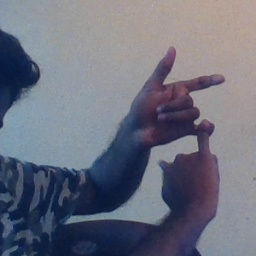S: (129, 43, 237, 206)
